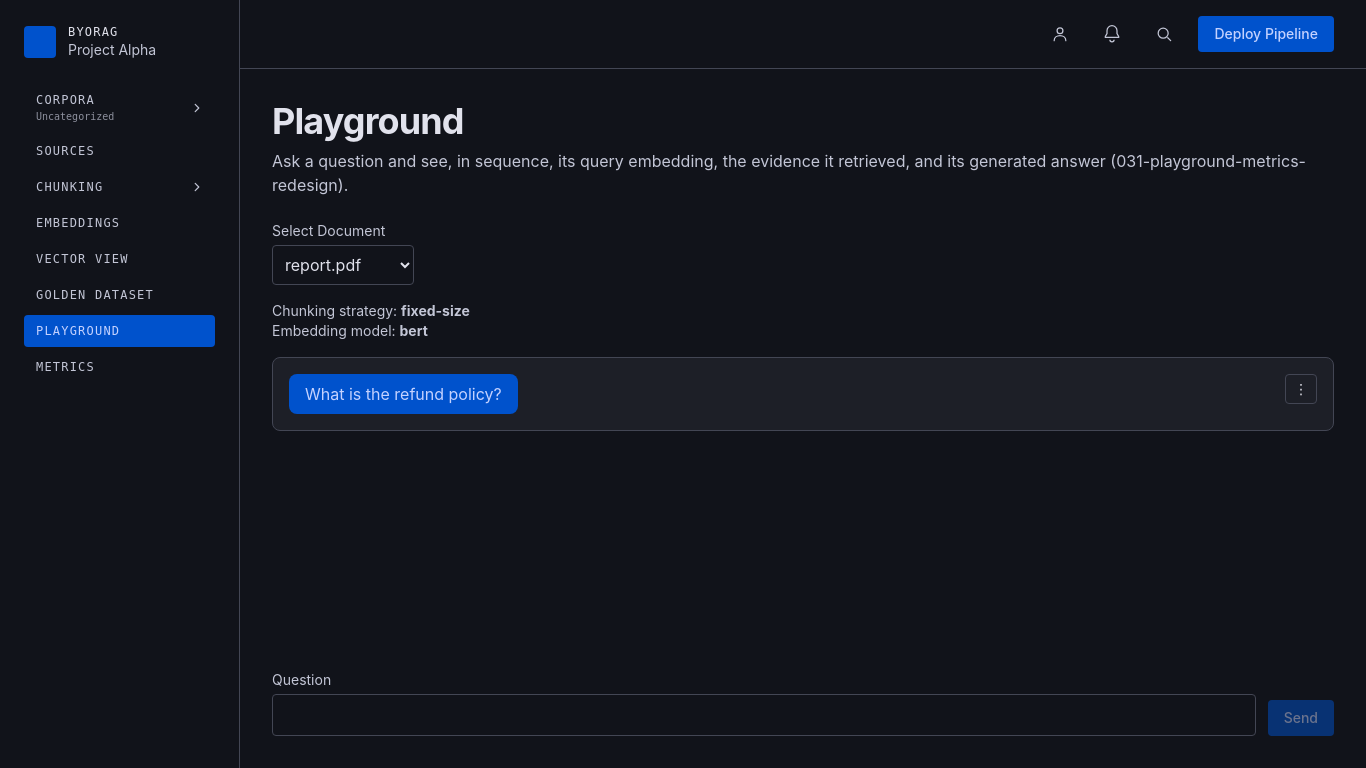
Test: PlaygroundScreen — every turn shows its own retrieved chunks and query embedding behind Actions (033-ui-ux-polish US6) › shows each retrieved chunk with its cosine similarity once Retrieved Chunks is chosen
This screenshot has width=1366, height=768.
Click the button named "actions for ": [1301, 389] box [1285, 374, 1317, 404]
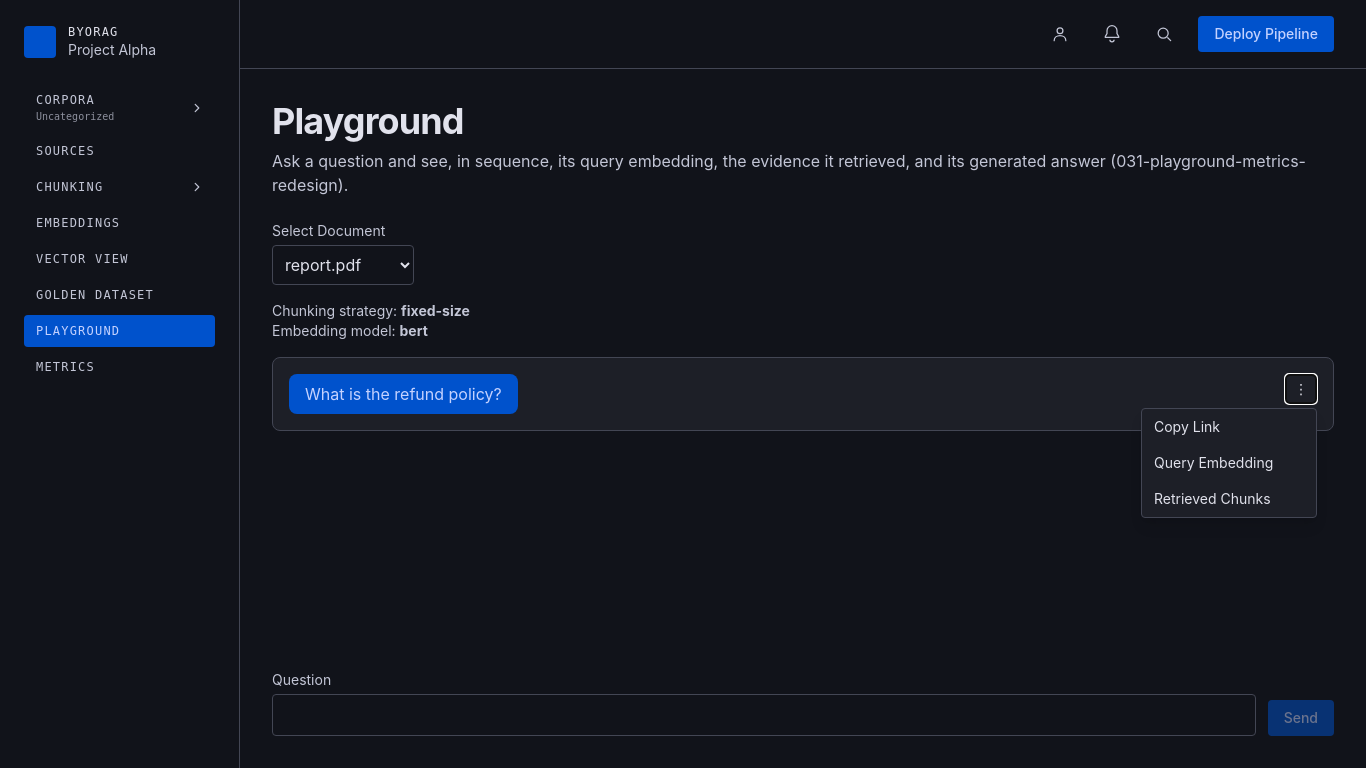
Click the menu item "Retrieved Chunks": [1229, 499] box [1142, 481, 1316, 517]
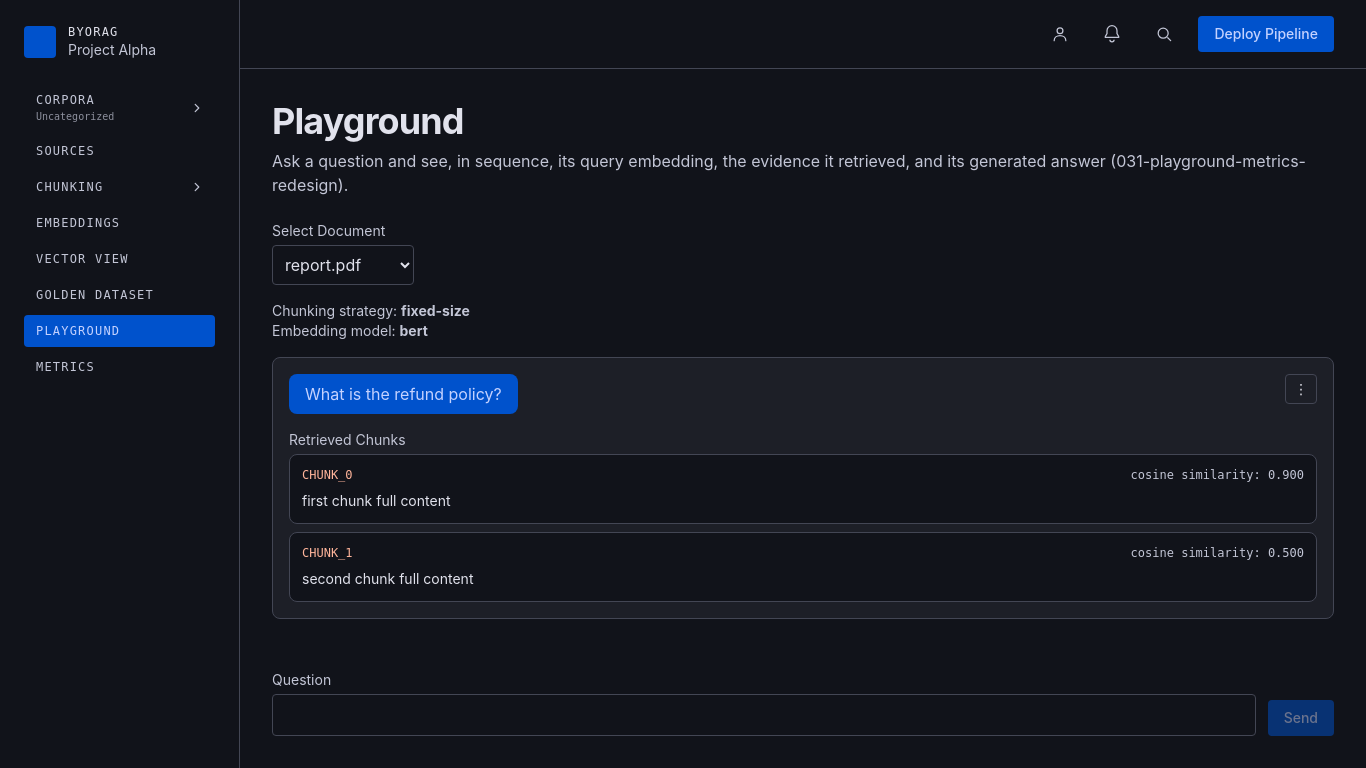
Expected: the text "CHUNK_0" is shown, [302, 467, 353, 483]
Expected: the text "CHUNK_1" is shown, [302, 545, 353, 561]
Expected: the text "first chunk full content" is shown, [302, 492, 450, 509]
